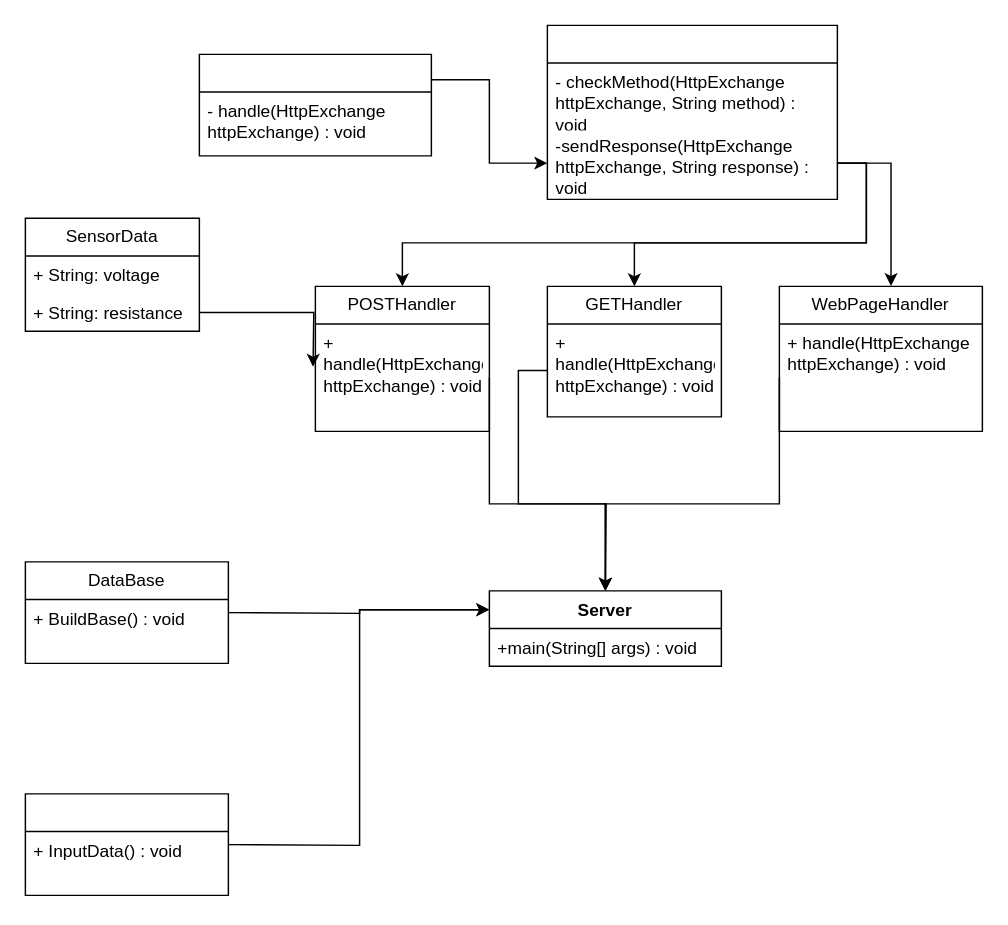
The diagram is 1008 pixels wide and 925 high, and some of its shapes have lost their labels. Each missing label, with the box of its shape:
HTTPHandler: (198, 53, 431, 156)
InsertData: (24, 792, 228, 895)
MyHandler: (546, 24, 837, 199)
